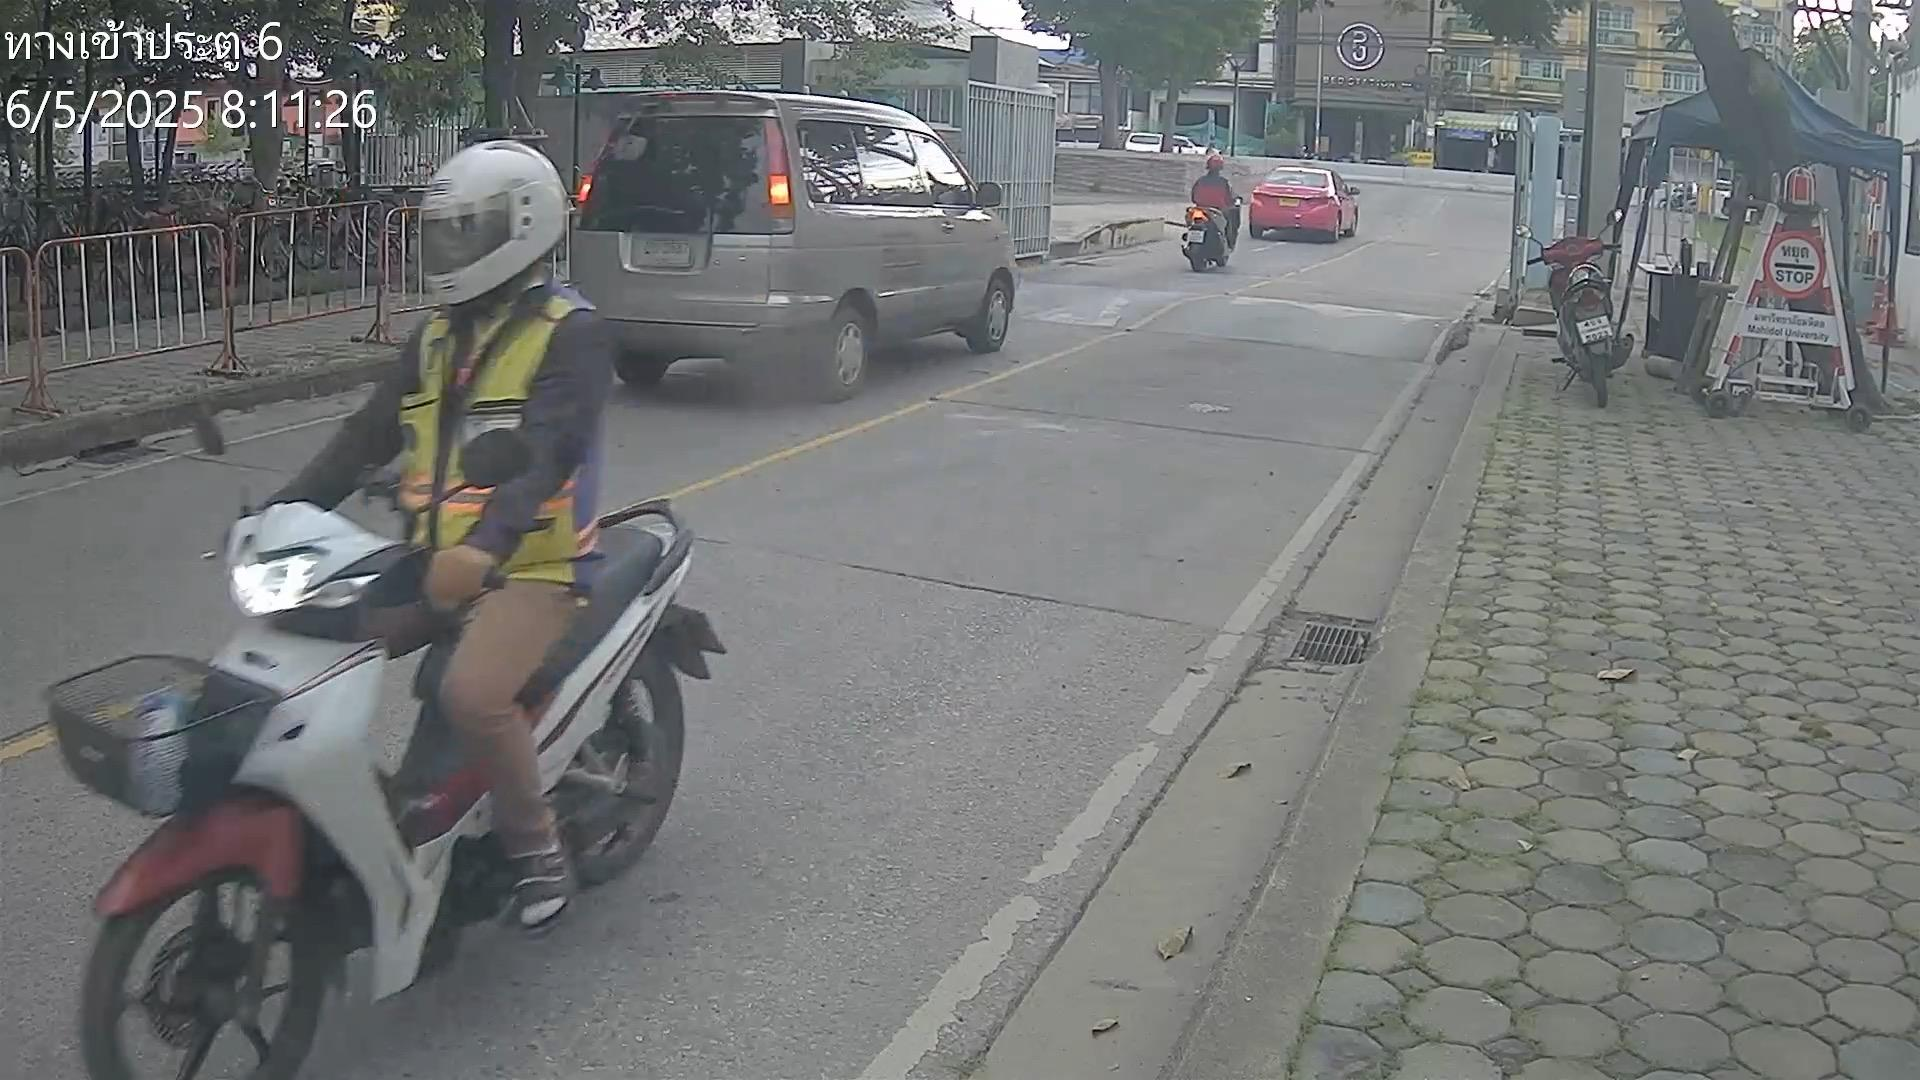With-Helmet: (411, 136, 574, 306)
